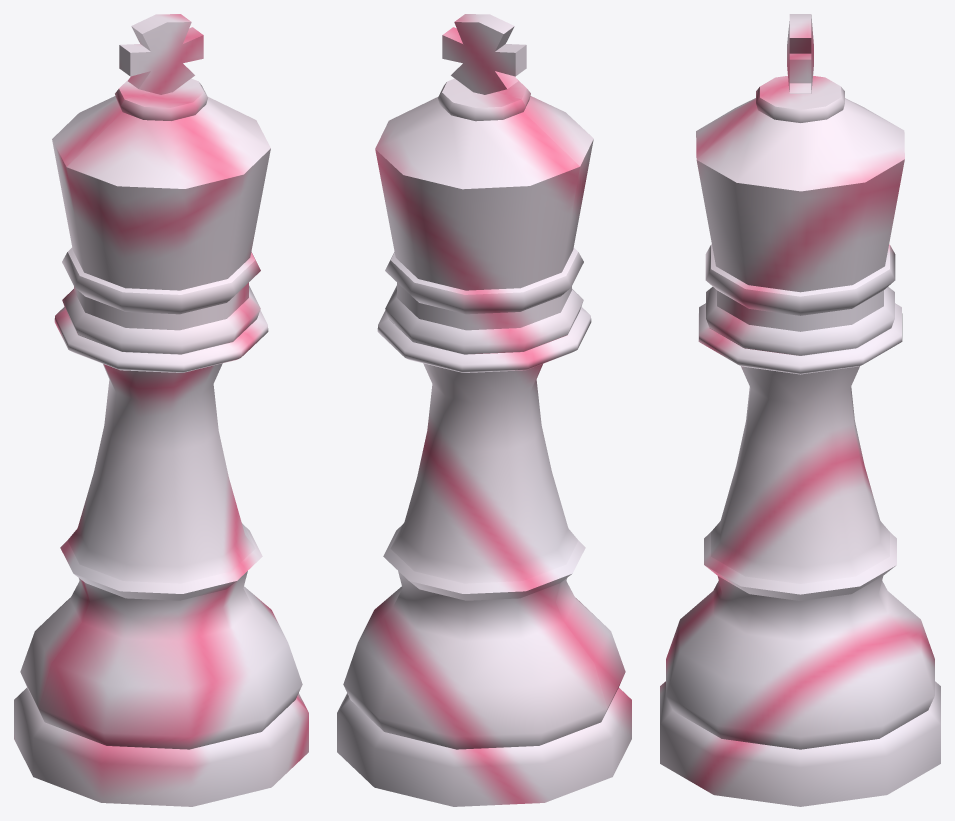
The model's file is item-5-4.glb.
3 views of the same model, side by side, from view 1: azimuth 30°, elevation 25°; view 2: azimuth 150°, elevation 25°; view 3: azimuth 270°, elevation 25° (orthographic).
Visible parts, largest first — view 1: BlackKing; view 2: BlackKing; view 3: BlackKing.
Part boxes in pixels (x1,y1,x2,y2): BlackKing: [14, 14, 308, 806]; BlackKing: [337, 14, 631, 806]; BlackKing: [660, 14, 940, 806].
Bounding box in the file's own units: 0.0886 × 0.2399 × 0.0843.
Materials: 1 (1 with a texture image).
